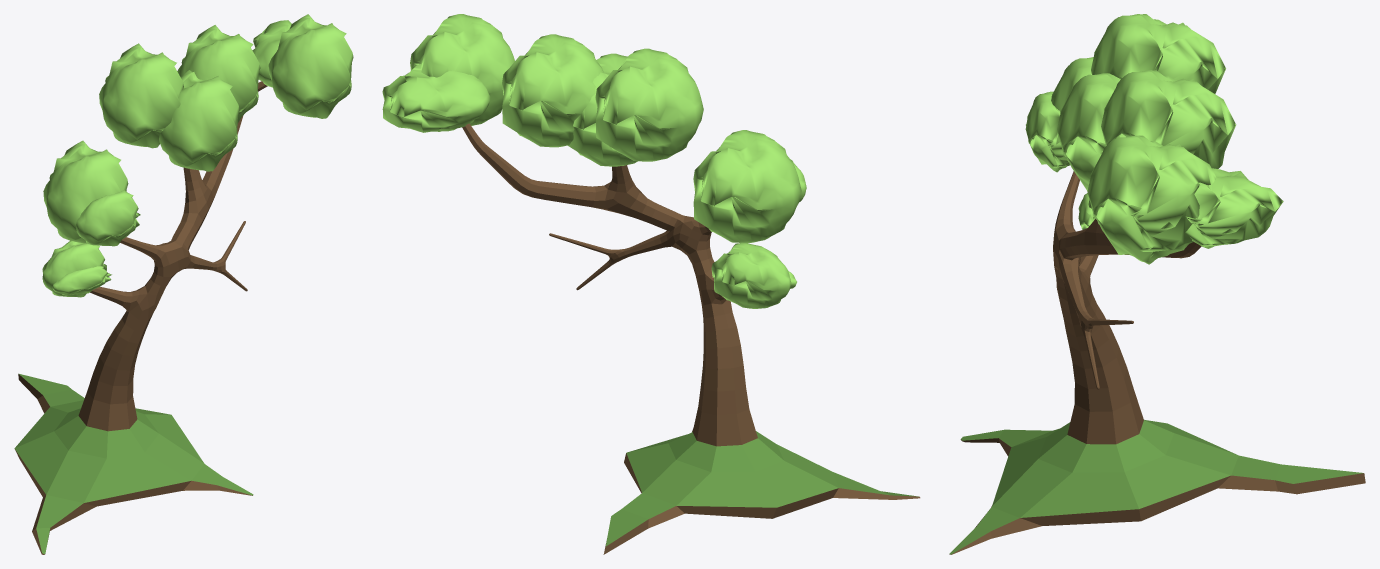
Rendered from tree.glb.
3 views of the same model, side by side, from view 1: azimuth 30°, elevation 25°; view 2: azimuth 150°, elevation 25°; view 3: azimuth 270°, elevation 25° (orthographic). The views are drawn at different scales.
Visible parts, largest first — view 1: Sphere.008, Cube; view 2: Sphere.008, Cube; view 3: Sphere.008, Cube.
Boxes of the visible parts, x1=… form: Sphere.008: x1=42, y1=14, x2=353, y2=297; Cube: x1=14, y1=81, x2=267, y2=554; Sphere.008: x1=382, y1=14, x2=806, y2=308; Cube: x1=462, y1=123, x2=920, y2=554; Sphere.008: x1=1025, y1=14, x2=1283, y2=264; Cube: x1=949, y1=171, x2=1365, y2=554.
Bounding box in the file's own units: 25.73 × 26.12 × 18.55.
